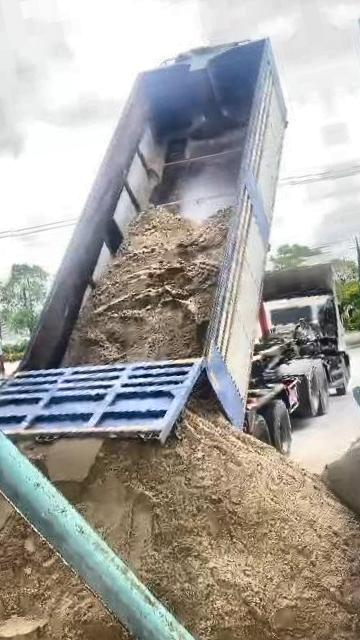sand: (59, 398, 360, 640), (64, 208, 229, 366), (0, 516, 198, 640), (322, 428, 360, 544)
